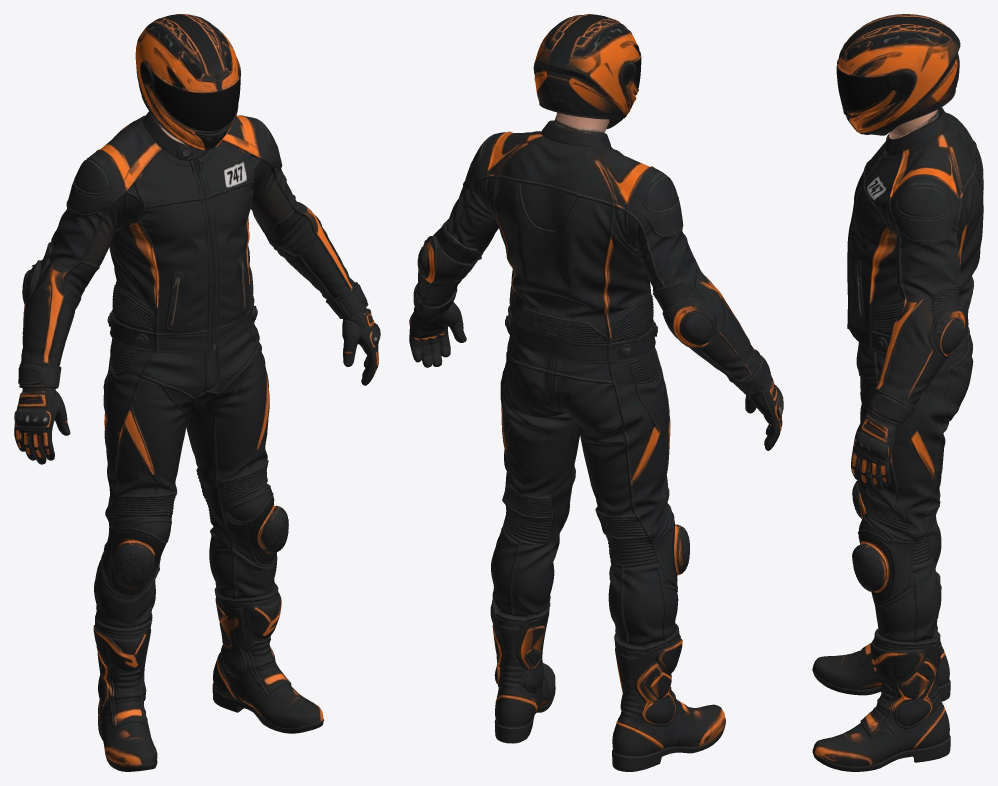
Rendered from Meshy_AI_Midnight_Racer_747_20261118_texture_181649tris.glb.
3 renders of one model, left to right at view 1: azimuth 30°, elevation 25°; view 2: azimuth 150°, elevation 25°; view 3: azimuth 270°, elevation 25°, orthographic. The views are drawn at different scales.
Parts seen in each view (by area): view 1: Mesh_0; view 2: Mesh_0; view 3: Mesh_0.
Boxes of the visible parts, x1,y1,x2,y2 form: Mesh_0: (14,14,380,771); Mesh_0: (409,14,783,771); Mesh_0: (812,14,983,771).
Size of the model in its own units: 103 by 190 by 41.83.
Materials: 1 (1 with a texture image).
